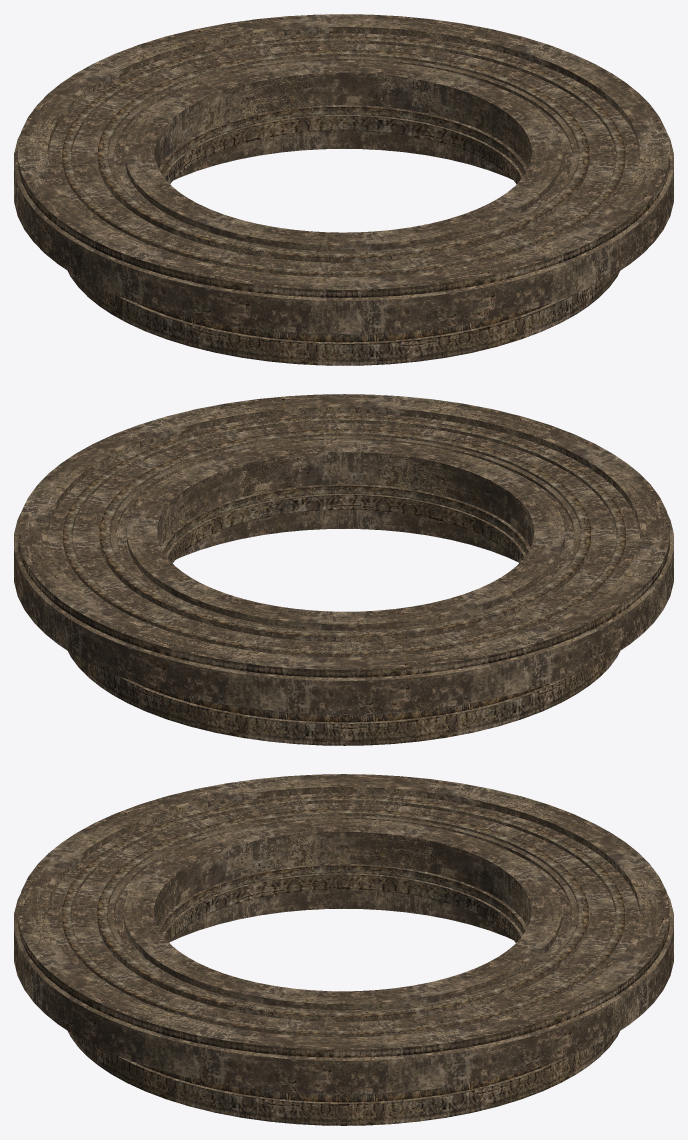
File: materials_5_floor_donut_4.fbx
3 views of the same model, one above another, from view 1: azimuth 30°, elevation 25°; view 2: azimuth 150°, elevation 25°; view 3: azimuth 270°, elevation 25° (orthographic).
Parts seen in each view (by area): view 1: materials_5_floor_donut_4; view 2: materials_5_floor_donut_4; view 3: materials_5_floor_donut_4.
Boxes of the visible parts, x1=… form: materials_5_floor_donut_4: x1=14, y1=14, x2=673, y2=365; materials_5_floor_donut_4: x1=14, y1=394, x2=673, y2=745; materials_5_floor_donut_4: x1=14, y1=774, x2=673, y2=1125.
Size of the model in its own units: 559 by 88.27 by 558.
